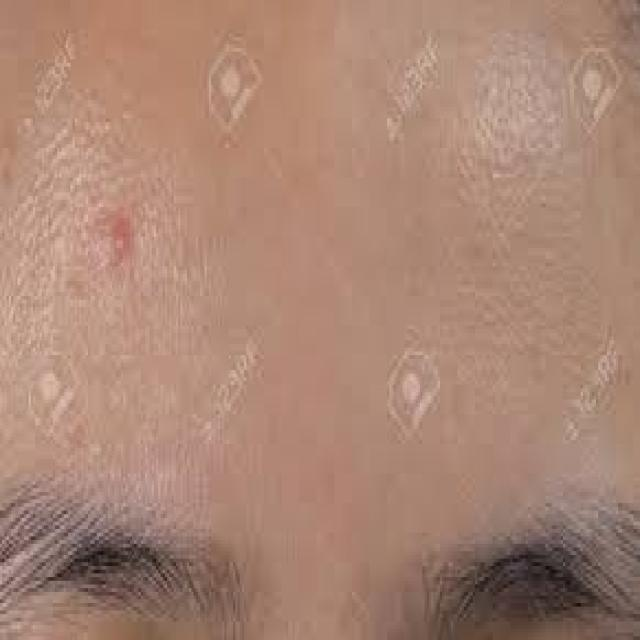Acne: (88, 206, 146, 297)
Oily-Skin: (24, 58, 522, 434)
